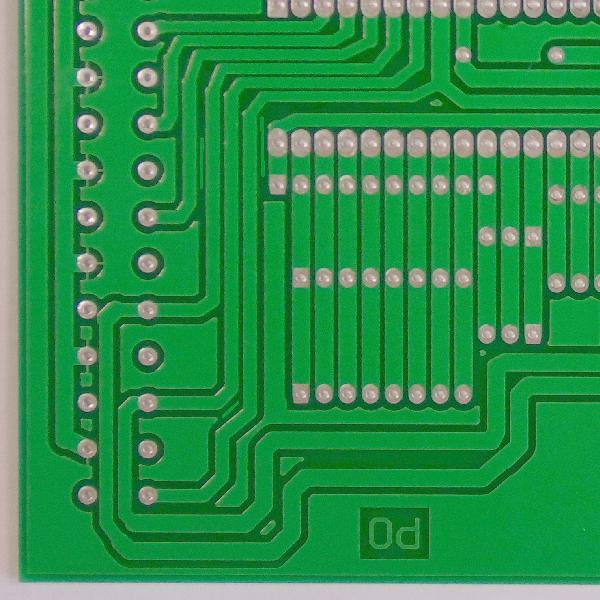spurious_copper: (254, 109, 269, 178), (195, 134, 206, 192), (216, 399, 242, 420)
